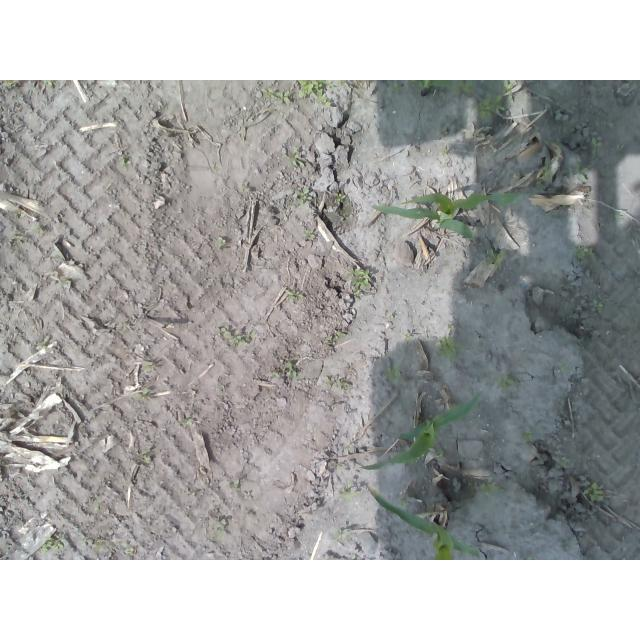Maize: (358, 391, 483, 473), (365, 480, 484, 561), (373, 193, 519, 243), (409, 80, 452, 97)
Weeds: (259, 80, 334, 108), (478, 81, 514, 119), (215, 324, 257, 348), (435, 325, 464, 359), (464, 479, 504, 497), (280, 145, 305, 168), (585, 482, 611, 503), (496, 373, 521, 392), (486, 247, 507, 269), (452, 81, 481, 96), (341, 480, 360, 501), (322, 375, 350, 389), (34, 334, 53, 354), (326, 329, 351, 344), (587, 297, 606, 316), (351, 269, 371, 287), (42, 536, 63, 553), (296, 186, 312, 206), (574, 243, 595, 257), (212, 511, 228, 529), (286, 289, 306, 303), (560, 455, 578, 469), (590, 130, 605, 146), (576, 165, 589, 183), (543, 159, 553, 182), (386, 368, 401, 383), (133, 388, 151, 400), (387, 80, 402, 94), (558, 359, 570, 376), (287, 360, 298, 378), (333, 192, 348, 205), (178, 416, 194, 428), (141, 448, 151, 464), (303, 229, 317, 240), (522, 431, 535, 441), (216, 236, 226, 248), (118, 158, 130, 166), (403, 333, 412, 343), (443, 144, 450, 156)
